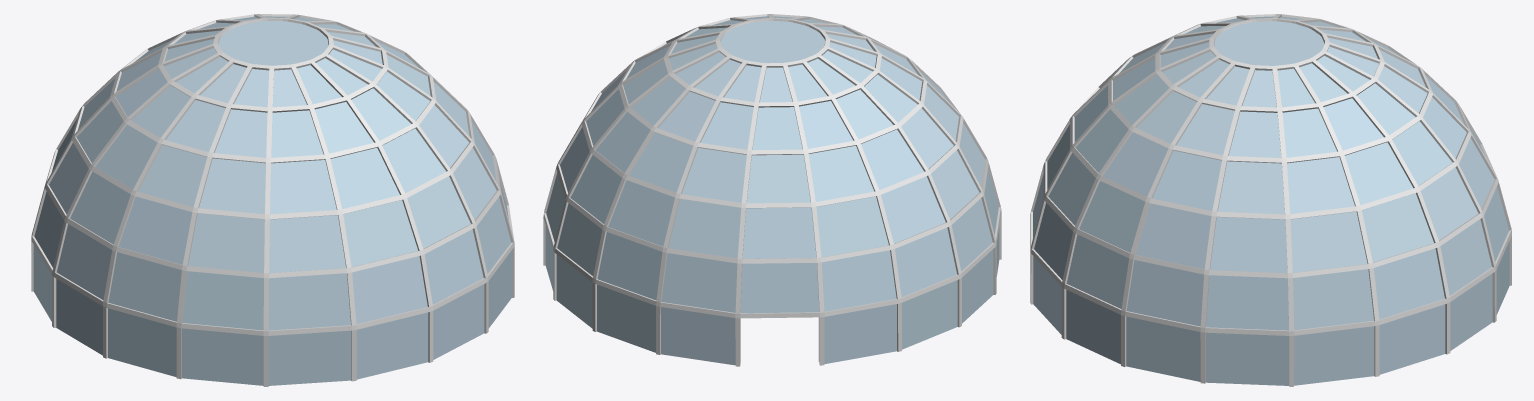
File: dome.fbx
3 renders of one model, left to right at view 1: azimuth 30°, elevation 25°; view 2: azimuth 150°, elevation 25°; view 3: azimuth 270°, elevation 25°, orthographic. The views are drawn at different scales.
Parts seen in each view (by area): view 1: Sphere.004; view 2: Sphere.004; view 3: Sphere.004.
Boxes of the visible parts, bbox=[...] form: Sphere.004: bbox=[31, 14, 514, 386]; Sphere.004: bbox=[543, 14, 1001, 366]; Sphere.004: bbox=[1030, 14, 1511, 386].
Bounding box in the file's own units: 199 × 110 × 202.
